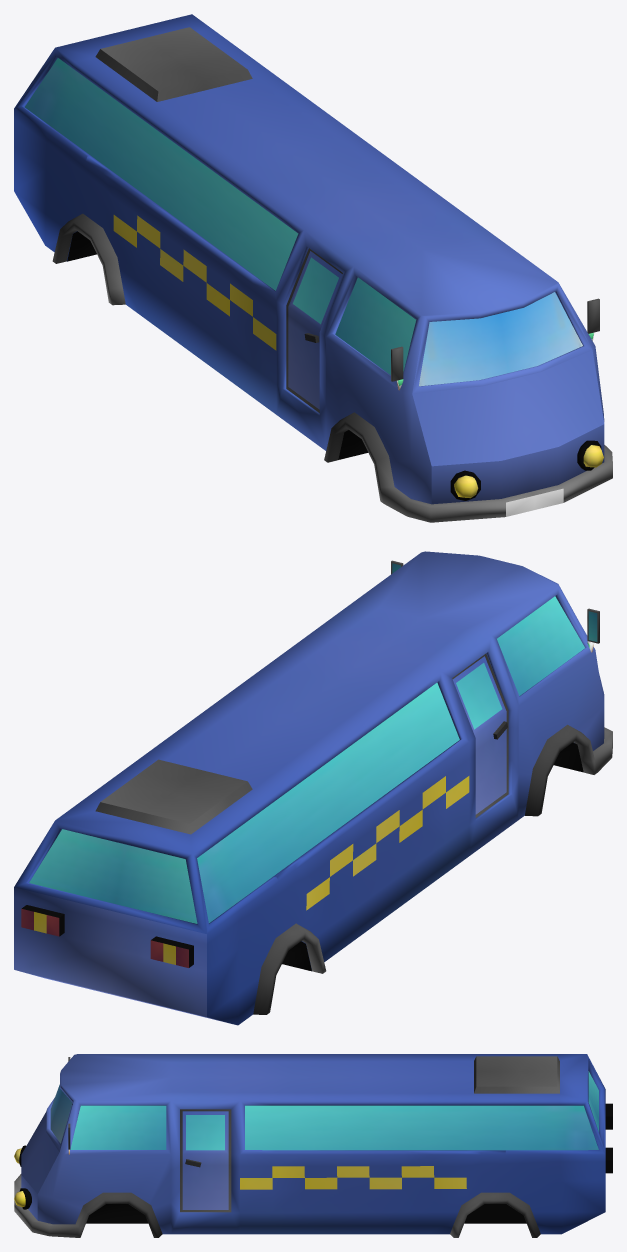
Rendered from Bus_2.fbx.
The picture shows the model from 3 angles, top to bottom: view 1: azimuth 30°, elevation 25°; view 2: azimuth 150°, elevation 25°; view 3: azimuth 270°, elevation 25°; orthographic projection. The views are drawn at different scales.
Parts seen in each view (by area): view 1: Bus_2; view 2: Bus_2; view 3: Bus_2.
Part boxes in pixels (x1,y1,x2,y2): Bus_2: (14,14,612,522); Bus_2: (14,551,612,1025); Bus_2: (14,1054,612,1237).
Size of the model in its own units: 223 by 186 by 776.
1 material, 1 textured.
